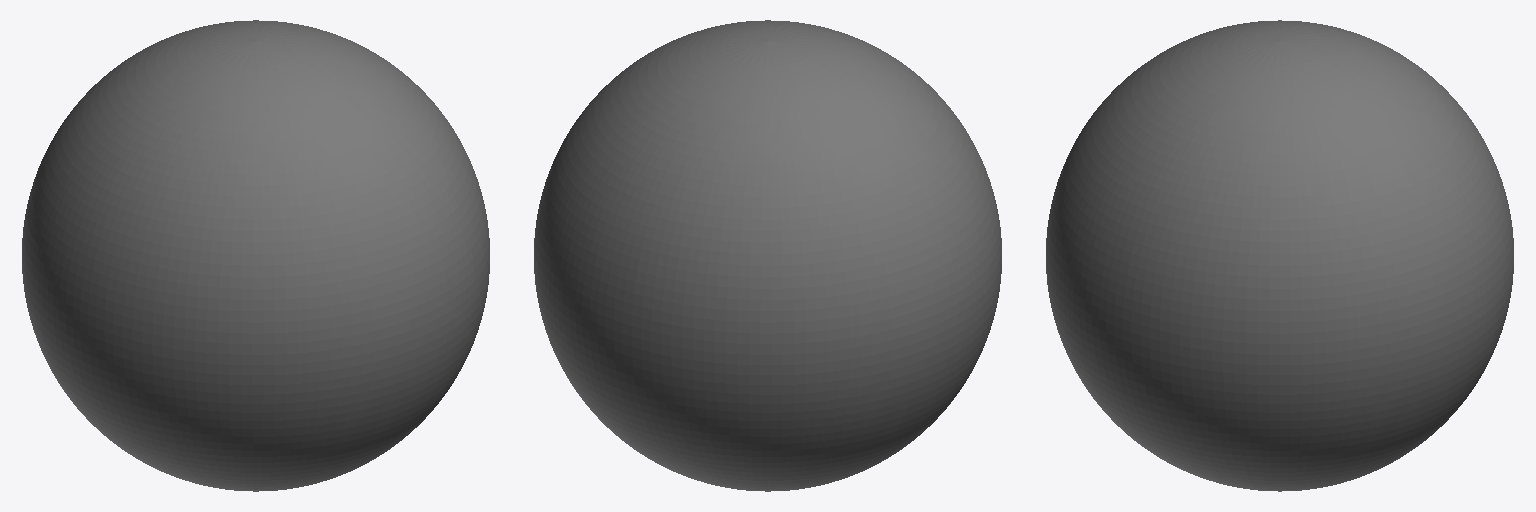
robot.urdf — ball_drop_z_0-0:
<?xml version="1.0"?>
<robot name="ball_drop_z_0-0">
  <link name="base">
    <visual>
      <geometry>
        <mesh filename="ball_drop_z_0-0.obj" scale="1 1 1"/>
      </geometry>
      <material name="gray">
        <color rgba="0.5 0.5 0.5 1.0"/>
      </material>
    </visual>
    <collision>
      <geometry>
        <mesh filename="ball_drop_z_0-0.obj" scale="1 1 1"/>
      </geometry>
    </collision>
    <inertial>
      <mass value="1.000"/>
      <inertia
          ixx="0.026264" ixy="0.000000" ixz="0.000000"
          iyy="0.026264" iyz="0.000000"
          izz="0.025990"/>
      <origin xyz="0.000000 0.000000 0.000000" rpy="0 0 0"/>
    </inertial>
  </link>
</robot>

--- What the picture shows (computed from the rendered views, not written in the file) ---
3 views of the same robot in one strip: view 1: azimuth 30°, elevation 25°; view 2: azimuth 150°, elevation 25°; view 3: azimuth 270°, elevation 25° (orthographic).
Robot: ball_drop_z_0-0 — 1 links, 0 joints (none); root link base; default pose: every joint at zero.
Links seen in each view (by area): view 1: base; view 2: base; view 3: base.
Link boxes in pixels (x1,y1,x2,y2): base: (22,20,489,491); base: (534,20,1001,491); base: (1046,20,1513,491).
Size in the robot's own frame: 0.3949 by 0.3949 by 0.399 metres.
Meshes: 1 distinct files referenced, 1 mesh visuals loaded (1 OBJ).
